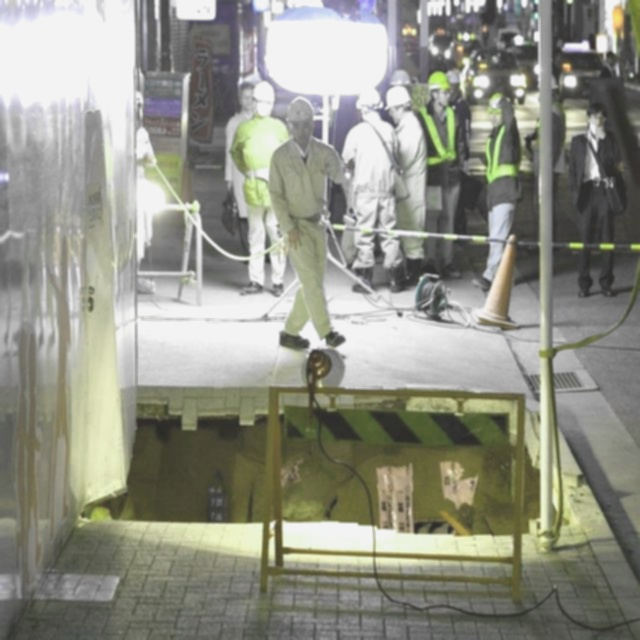Con_Casco: (287, 95, 314, 140), (427, 72, 451, 107)
Con_Chaleco: (485, 122, 523, 190), (422, 107, 459, 170)
Sin_Chaleco: (274, 139, 338, 229)
